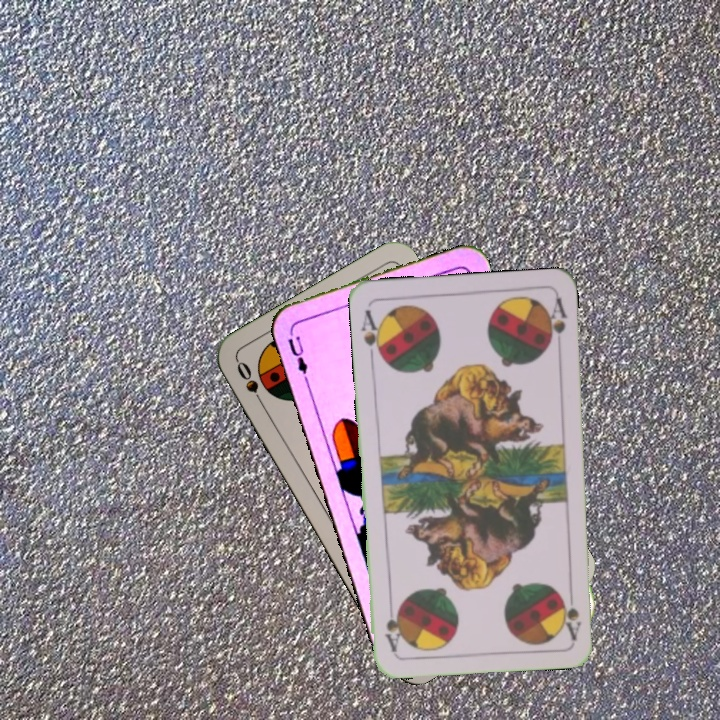EU: (284, 332, 310, 377)
SA: (357, 305, 387, 363), (560, 583, 584, 642)
SO: (232, 357, 268, 411)
